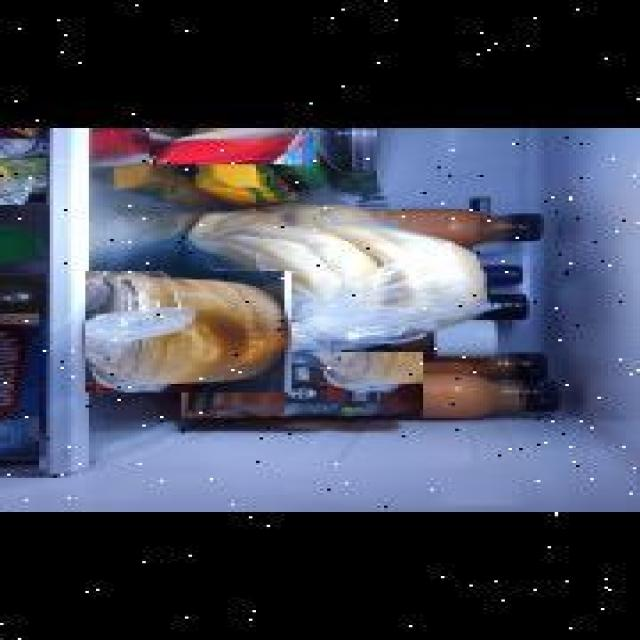asparagus: (0, 158, 89, 205)
humus: (80, 271, 286, 392)
milk: (0, 205, 96, 273)
tomato_sauce: (178, 352, 420, 418)
yogurt: (0, 313, 124, 469), (146, 128, 309, 164)
